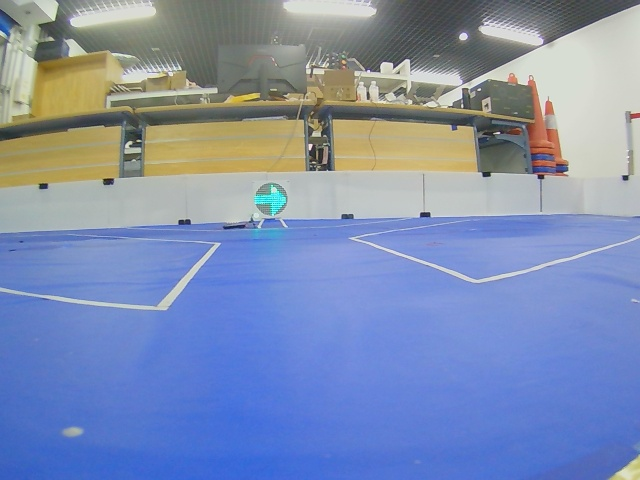right_green: (254, 182, 288, 217)
